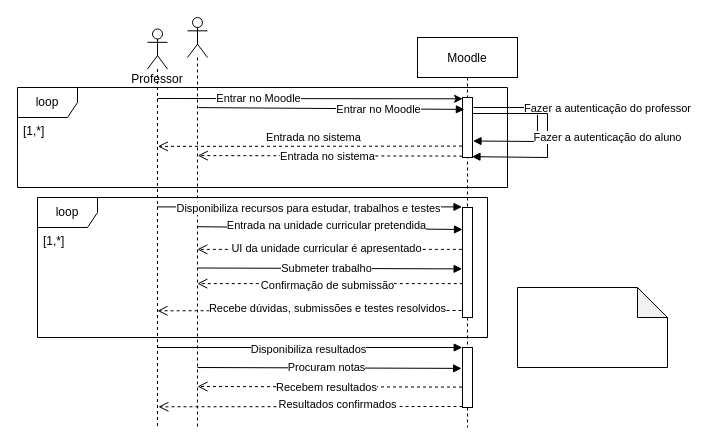
Some shapes in this 708 by 445 pixel diagram are drawn without their labels. Each missing label, with the box of its shape:
Aluno: (186, 16, 208, 428)
AS-Ex4.2 Grupo503(RA,RA,DS,MA) v2022-03-30: (516, 286, 668, 368)
